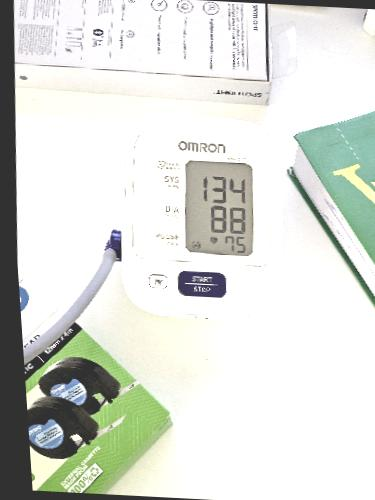bpm: (184, 160, 252, 257)
